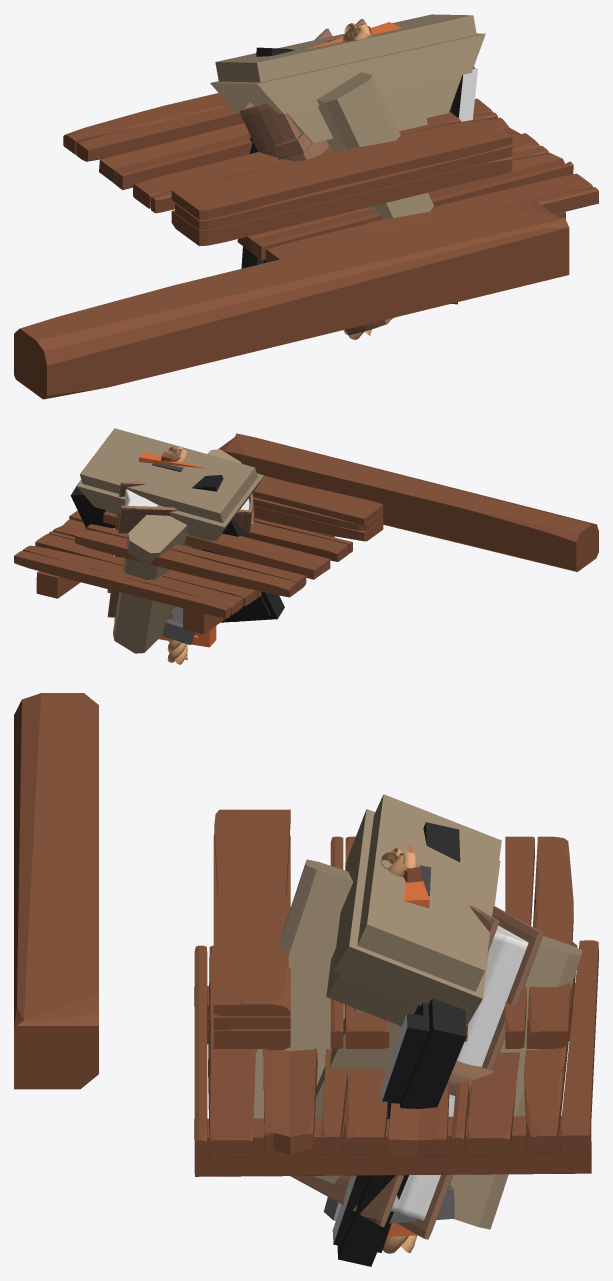
The model's file is Concreate_Beam.fbx.
3 renders of one model, top to bottom at view 1: azimuth 30°, elevation 25°; view 2: azimuth 150°, elevation 25°; view 3: azimuth 270°, elevation 25°, orthographic. The views are drawn at different scales.
Visible parts, largest first — view 1: Wood_Beam, Wood, SLAB_LOW.v1.002, Wood_pallet, Plank_2, SUPPORT.009, Plank_3, Plank_1, Cube, FLOOR.001, FLOOR.004, Circle.003; view 2: Wood_Beam, SLAB_LOW.v1.002, Wood_pallet, SUPPORT.009, Wood, Plank_2, Plank_3, Plank_1, Cube, FLOOR.004, SUSPENSION_30x10x4.001, Circle.003 (+2 smaller); view 3: Wood_pallet, Wood_Beam, SLAB_LOW.v1.002, Wood, SUPPORT.009, Cube, Plank_2, FLOOR.004, FLOOR.001, Plank_1, Circle.003, SUSPENSION_30x10x4.001.
Boxes of the visible parts, bbox=[...] form: Wood_Beam: bbox=[14, 201, 569, 399]; Wood: bbox=[171, 118, 512, 246]; SLAB_LOW.v1.002: bbox=[210, 14, 485, 142]; Wood_pallet: bbox=[237, 98, 598, 262]; Plank_2: bbox=[63, 93, 243, 161]; SUPPORT.009: bbox=[317, 72, 434, 219]; Plank_3: bbox=[99, 123, 252, 189]; Plank_1: bbox=[133, 111, 461, 213]; Cube: bbox=[239, 19, 393, 335]; FLOOR.001: bbox=[264, 68, 477, 263]; FLOOR.004: bbox=[241, 47, 474, 304]; Circle.003: bbox=[343, 23, 371, 339]; Wood_Beam: bbox=[218, 433, 598, 571]; SLAB_LOW.v1.002: bbox=[76, 428, 263, 541]; Wood_pallet: bbox=[14, 510, 334, 634]; SUPPORT.009: bbox=[113, 449, 241, 653]; Wood: bbox=[252, 475, 383, 541]; Plank_2: bbox=[75, 524, 306, 597]; Plank_3: bbox=[103, 511, 330, 579]; Plank_1: bbox=[248, 518, 352, 561]; Cube: bbox=[107, 481, 254, 621]; FLOOR.004: bbox=[70, 475, 284, 622]; SUSPENSION_30x10x4.001: bbox=[139, 451, 216, 647]; Circle.003: bbox=[167, 446, 187, 664]; Wood_pallet: bbox=[194, 940, 598, 1176]; Wood_Beam: bbox=[14, 693, 98, 1089]; SLAB_LOW.v1.002: bbox=[313, 794, 501, 1183]; Wood: bbox=[213, 809, 290, 1049]; SUPPORT.009: bbox=[251, 859, 582, 1229]; Cube: bbox=[290, 905, 543, 1239]; Plank_2: bbox=[505, 836, 573, 1048]; FLOOR.004: bbox=[337, 822, 466, 1266]; FLOOR.001: bbox=[332, 1002, 429, 1252]; Plank_1: bbox=[330, 836, 389, 1048]; Circle.003: bbox=[380, 847, 417, 1253]; SUSPENSION_30x10x4.001: bbox=[387, 842, 429, 1236].
Size of the model in its own units: 1319 by 624 by 834.
